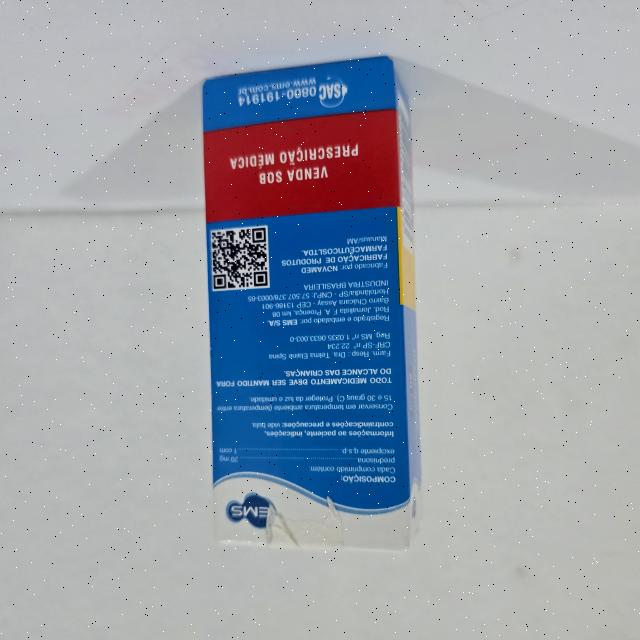prednisona: (193, 50, 431, 560)
